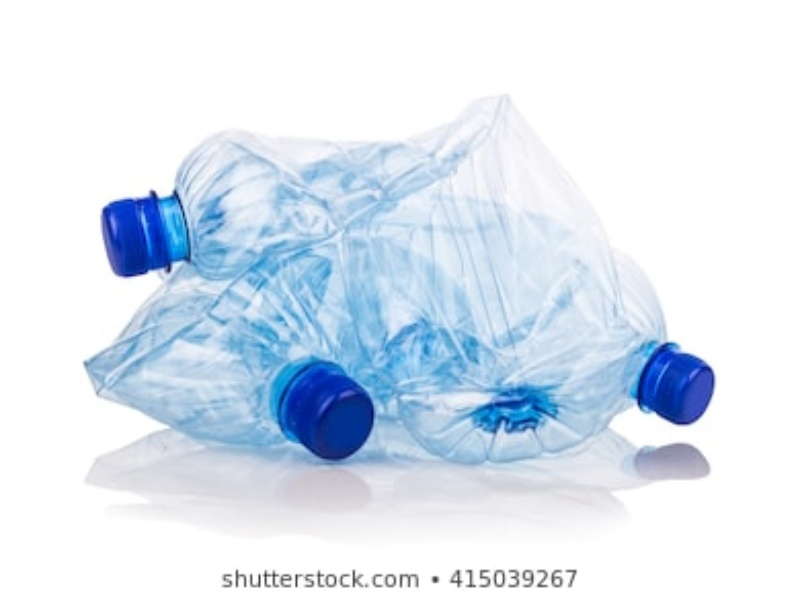bottle-cap: (265, 357, 371, 459), (644, 349, 717, 428), (97, 195, 162, 272)
plastic-bottle: (92, 88, 629, 459), (72, 253, 389, 456)
